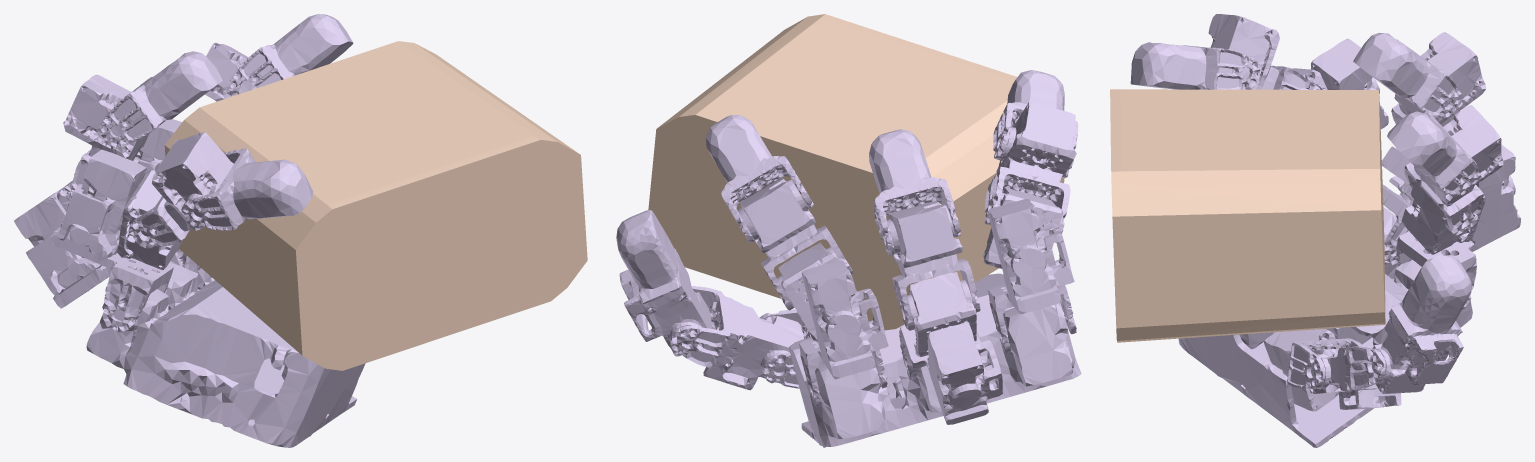
Rendered from 929057609a7f4e-closed.glb.
The picture shows the model from 3 angles, left to right: view 1: azimuth 30°, elevation 25°; view 2: azimuth 150°, elevation 25°; view 3: azimuth 270°, elevation 25°; orthographic projection.
Parts seen in each view (by area): view 1: world, LEAP_hand; view 2: LEAP_hand, world; view 3: world, LEAP_hand.
Boxes of the visible parts, bbox=[...] form: world: bbox=[164, 41, 587, 370]; LEAP_hand: bbox=[14, 14, 365, 447]; LEAP_hand: bbox=[616, 70, 1081, 447]; world: bbox=[648, 14, 1064, 330]; world: bbox=[1110, 89, 1385, 342]; LEAP_hand: bbox=[1130, 14, 1520, 447].
Size of the model in its own units: 0.2197 by 0.1795 by 0.1909.
